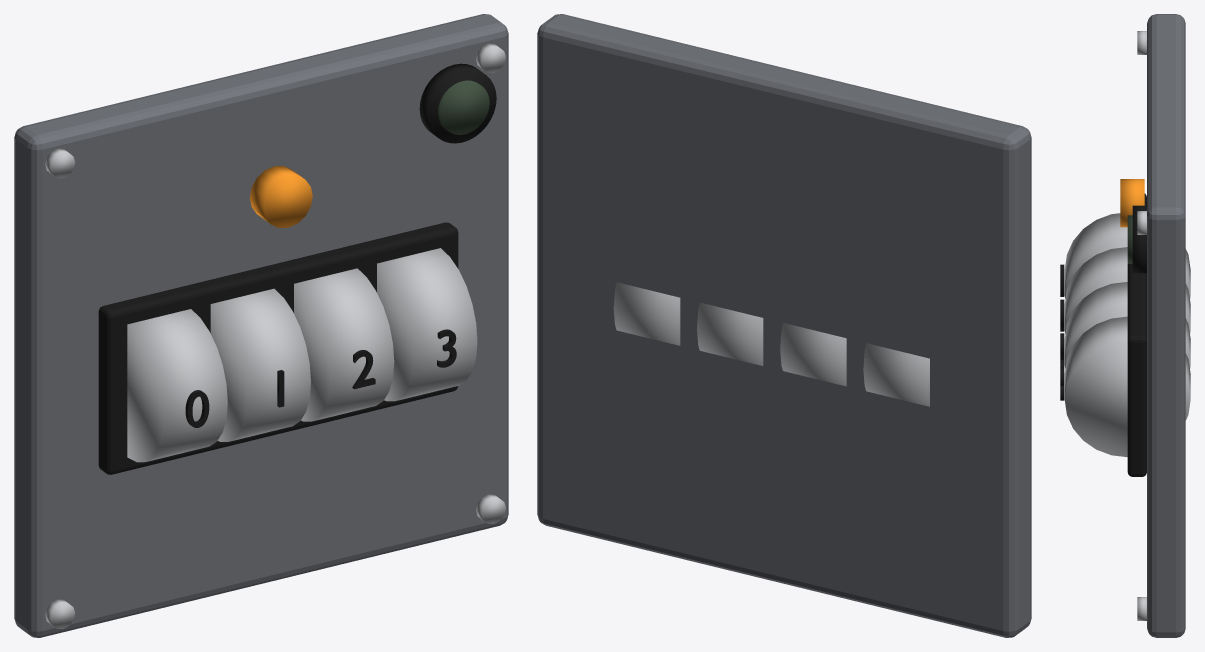
File: lock.glb
3 renders of one model, left to right at view 1: azimuth 30°, elevation 25°; view 2: azimuth 150°, elevation 25°; view 3: azimuth 270°, elevation 25°, orthographic. The views are drawn at different scales.
Visible parts, largest first — view 1: lock_Plate, lock_Frame, lock_Wheel0, lock_Wheel1, lock_Wheel3, lock_Wheel2, lock_Shackle, lock_StatusRing, lock_StatusLED, lock_Screw.001, lock_Screw, lock_Screw.002 (+1 smaller); view 2: lock_Plate, lock_Wheel3, lock_Wheel2, lock_Wheel1, lock_Wheel0; view 3: lock_Plate, lock_Wheel3, lock_Frame, lock_Wheel2, lock_Wheel1, lock_Wheel0, lock_Shackle, lock_StatusRing, lock_StatusLED, lock_Screw.001, lock_Screw.002, lock_Screw.003.
Part boxes in pixels (left/top/right/bottom): lock_Plate: left=14, top=14, right=508, bottom=637; lock_Frame: left=98, top=222, right=458, bottom=474; lock_Wheel0: left=127, top=309, right=227, bottom=462; lock_Wheel1: left=210, top=288, right=310, bottom=441; lock_Wheel3: left=377, top=248, right=477, bottom=401; lock_Wheel2: left=294, top=268, right=394, bottom=421; lock_Shackle: left=249, top=166, right=312, bottom=227; lock_StatusRing: left=419, top=63, right=496, bottom=143; lock_StatusLED: left=438, top=80, right=489, bottom=134; lock_Screw.001: left=45, top=148, right=75, bottom=178; lock_Screw: left=45, top=599, right=75, bottom=629; lock_Screw.002: left=476, top=494, right=505, bottom=523; lock_Plate: left=537, top=14, right=1031, bottom=637; lock_Wheel3: left=613, top=282, right=680, bottom=345; lock_Wheel2: left=697, top=302, right=763, bottom=365; lock_Wheel1: left=780, top=323, right=846, bottom=386; lock_Wheel0: left=863, top=343, right=929, bottom=406; lock_Plate: left=1147, top=14, right=1185, bottom=637; lock_Wheel3: left=1064, top=316, right=1190, bottom=457; lock_Frame: left=1127, top=193, right=1146, bottom=476; lock_Wheel2: left=1064, top=282, right=1190, bottom=368; lock_Wheel1: left=1064, top=247, right=1190, bottom=333; lock_Wheel0: left=1064, top=213, right=1190, bottom=298; lock_Shackle: left=1120, top=179, right=1144, bottom=227; lock_StatusRing: left=1132, top=205, right=1146, bottom=273; lock_StatusLED: left=1127, top=215, right=1132, bottom=263; lock_Screw.001: left=1137, top=31, right=1146, bottom=54; lock_Screw.002: left=1137, top=597, right=1146, bottom=620; lock_Screw.003: left=1137, top=211, right=1146, bottom=234.
Size of the model in its own units: 0.98 by 0.98 by 0.269.
